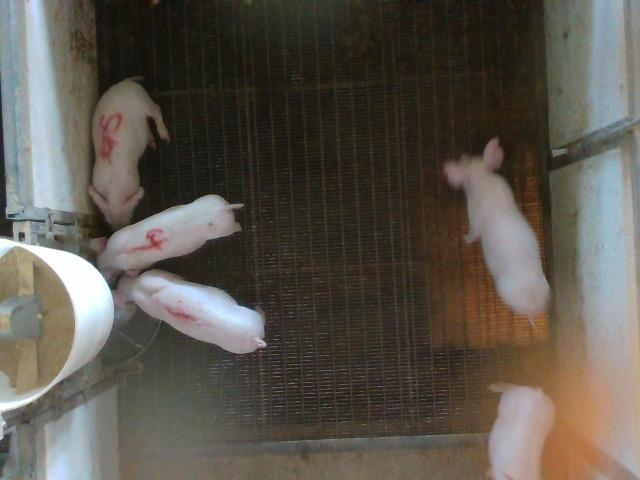pig-1: (118, 269, 266, 354)
pig-4: (99, 195, 244, 274)
pig-5: (89, 76, 170, 231)
